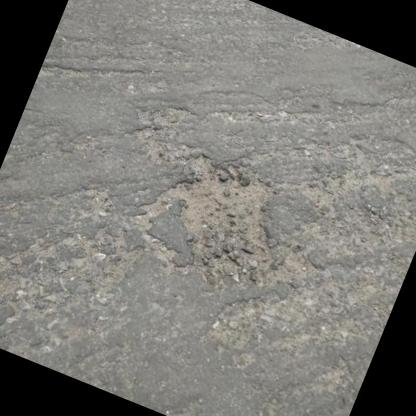pothole: (138, 137, 301, 295)
